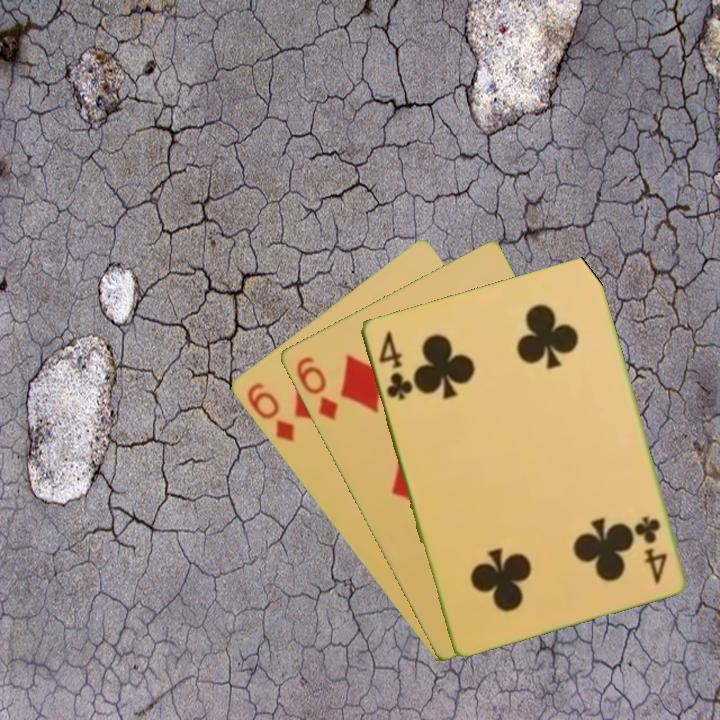4c: (375, 327, 415, 403), (633, 512, 670, 586)
6d: (242, 378, 297, 445), (292, 352, 341, 424)
